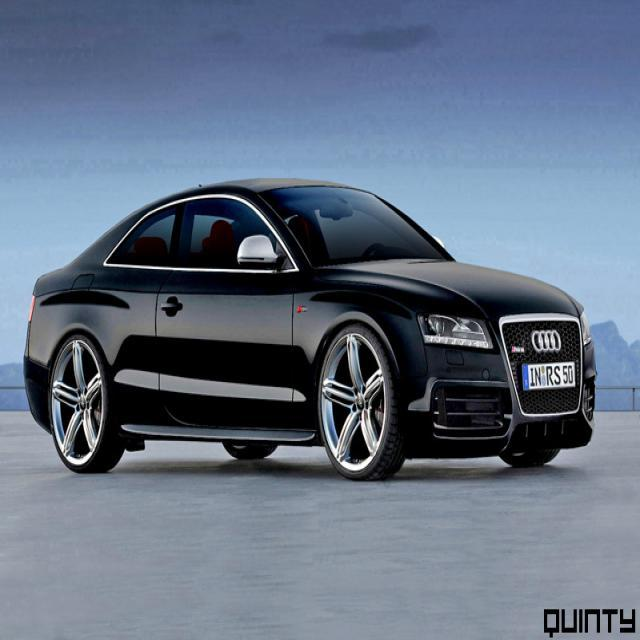Car: (8, 153, 618, 514)
